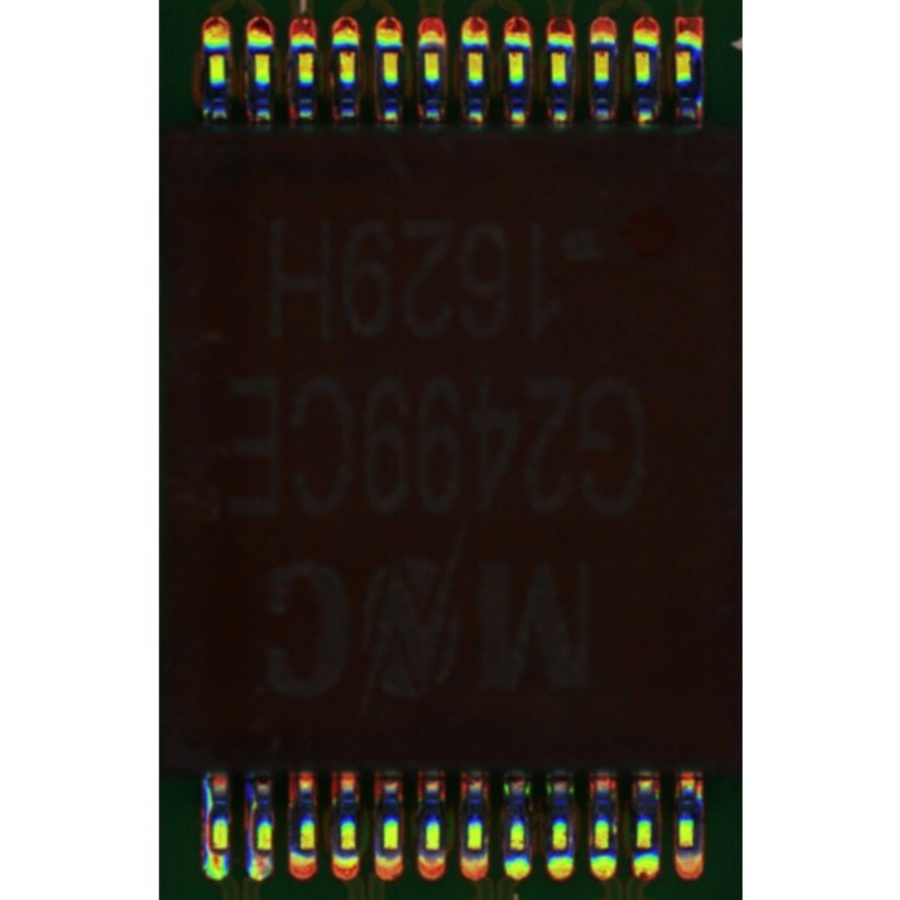Bad_podu: (257, 840, 270, 867), (211, 840, 223, 866)
Bad_qiaojiao: (203, 770, 212, 851), (247, 781, 256, 851)
